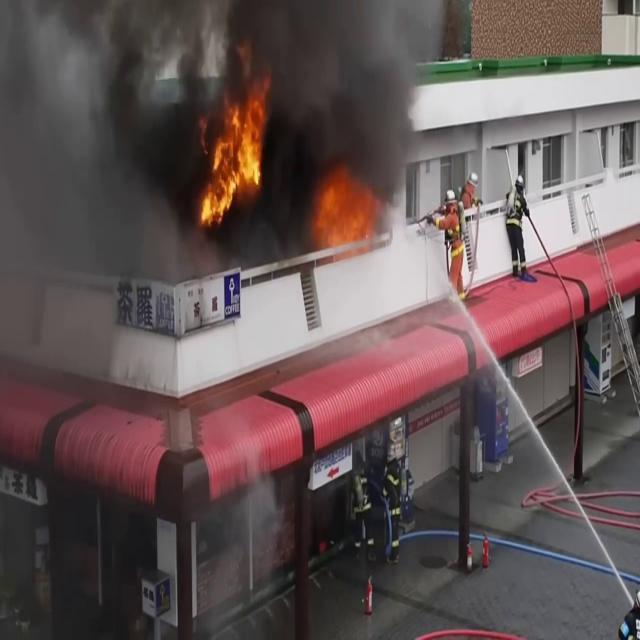Fire: (196, 70, 272, 230), (308, 160, 386, 256)
Smoke: (9, 0, 437, 228), (0, 0, 210, 339)
